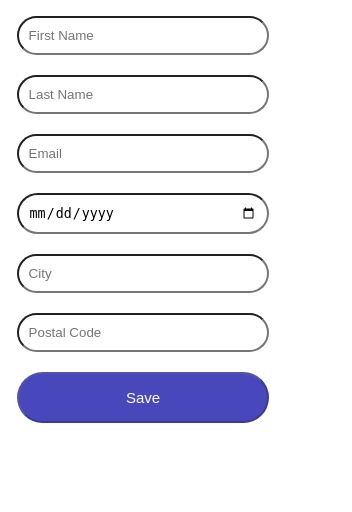
it: RegistrationForm Integration Tests › Check if success toast is displayed
Type "John" into the field with placeholder "First Name". click: (143, 36)
box: [17,16,269,55]
Type "Doe" into the field with placeholder "Last Name". click: (143, 94)
box: [17,75,269,114]
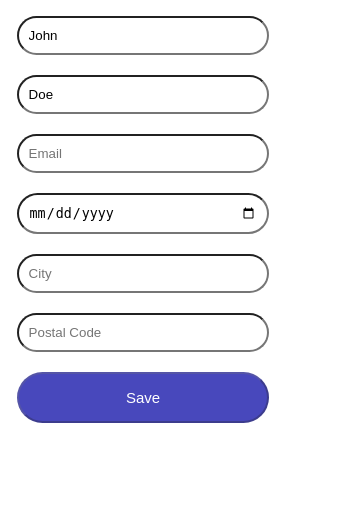
Type "john.doe@example.com" into the field with placeholder "Email". click: (143, 154)
box: [17,134,269,173]
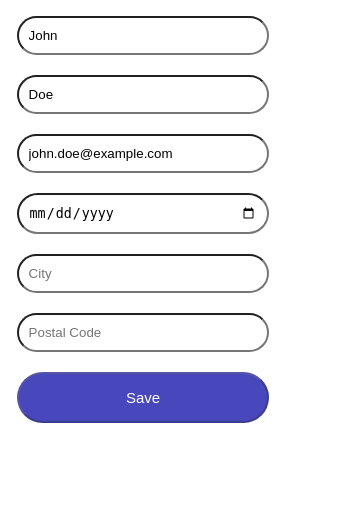
Type "1990-01-01" into the date field with placeholder "Date of Birth". click: (143, 214)
box: [17,193,269,234]
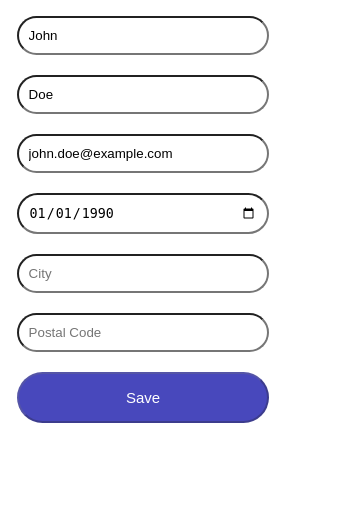
Type "Paris" into the field with placeholder "City". click: (143, 274)
box: [17,254,269,293]
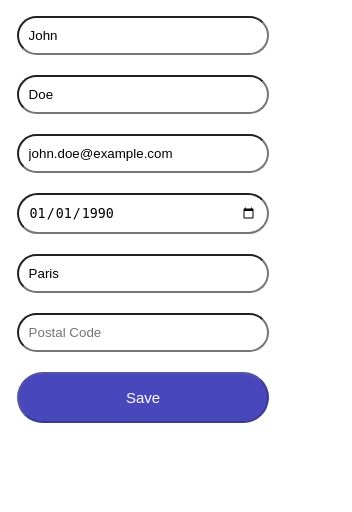
Type "08000" into the field with placeholder "Postal Code". click: (143, 333)
box: [17,313,269,352]
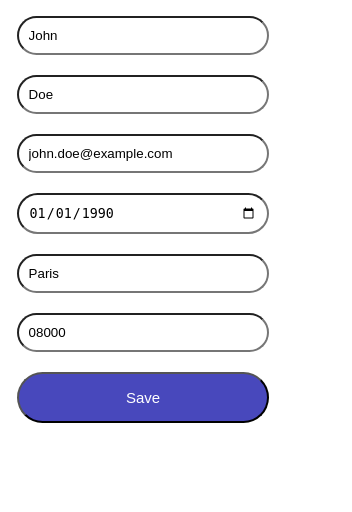
Click the button "Save". click: (143, 398)
box: [17,372,269,423]
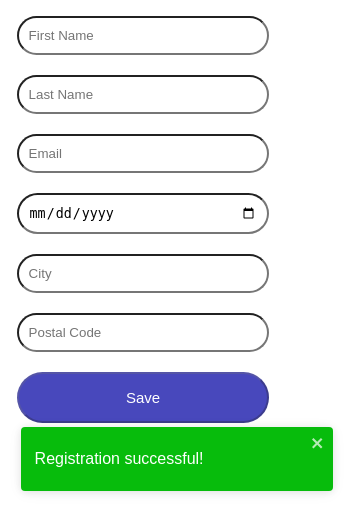
Expected: the text "Registration successful!" is shown, [35,450,204,467]
Expected: the field with placeholder "First Name" is empty, [17,16,269,55]
Expected: the field with placeholder "Last Name" is empty, [17,75,269,114]
